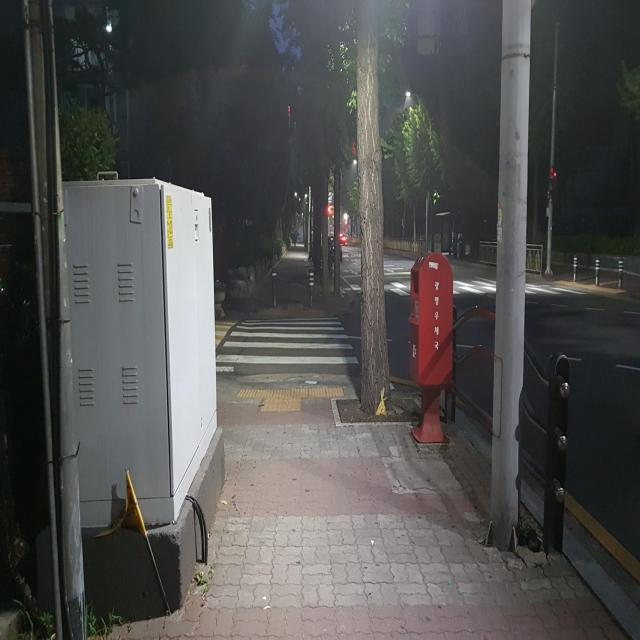횡단보도: (215, 318, 359, 374)
